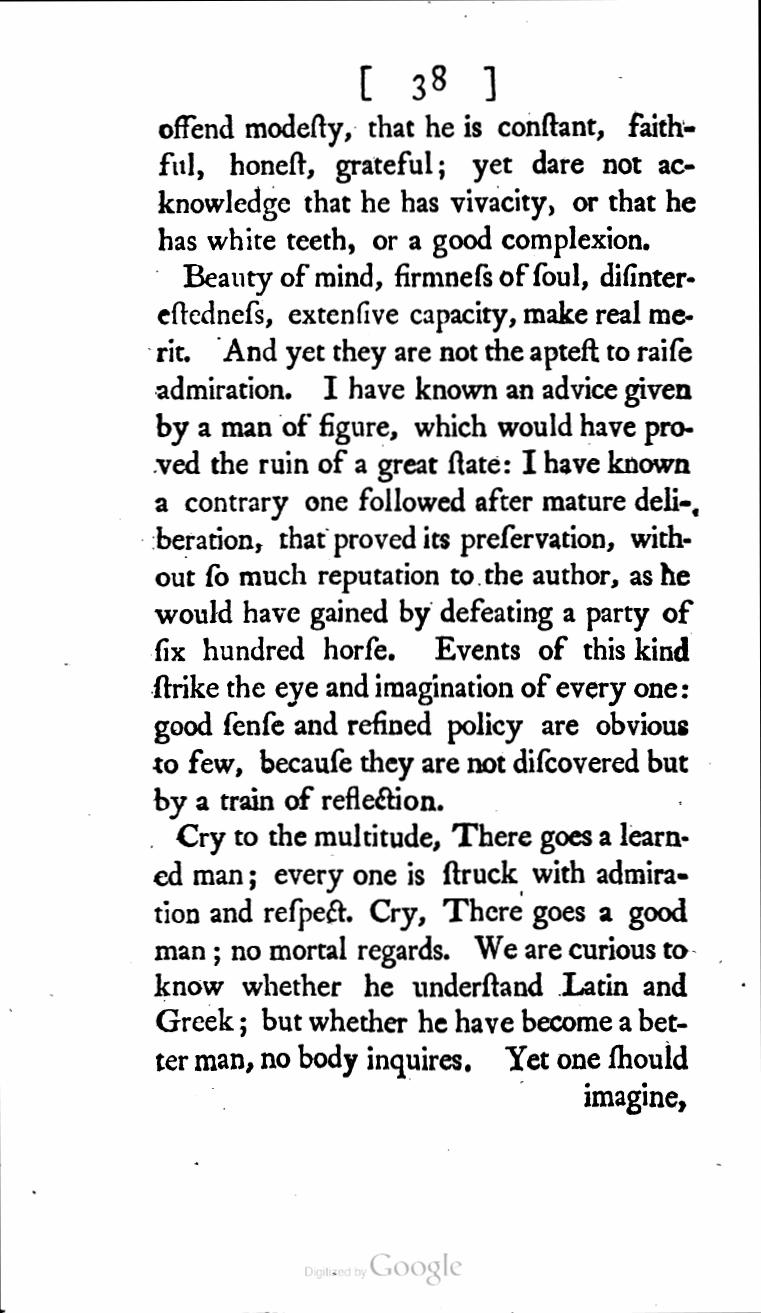bottom_p: (155, 110, 703, 262)
catchword: (577, 1077, 695, 1120)
full_p: (155, 260, 705, 822)
page_num: (407, 60, 453, 107)
top_p: (148, 820, 695, 1078)
